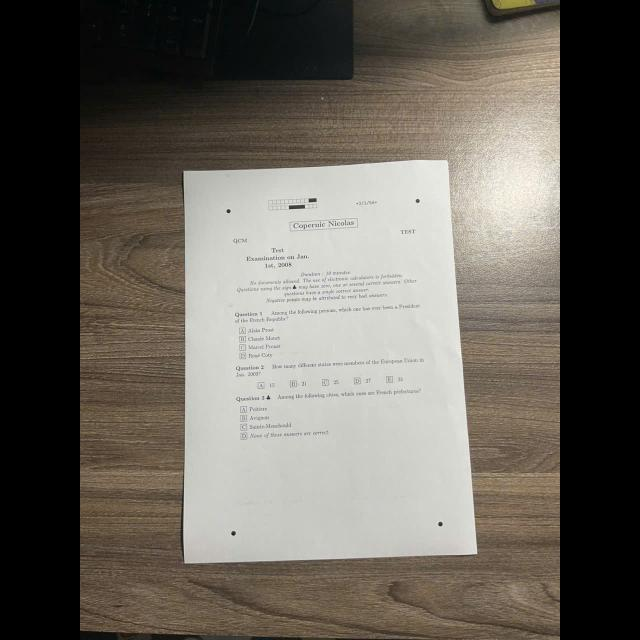Markers: (226, 208, 232, 214), (437, 521, 443, 527), (230, 530, 236, 536), (416, 199, 420, 203)
